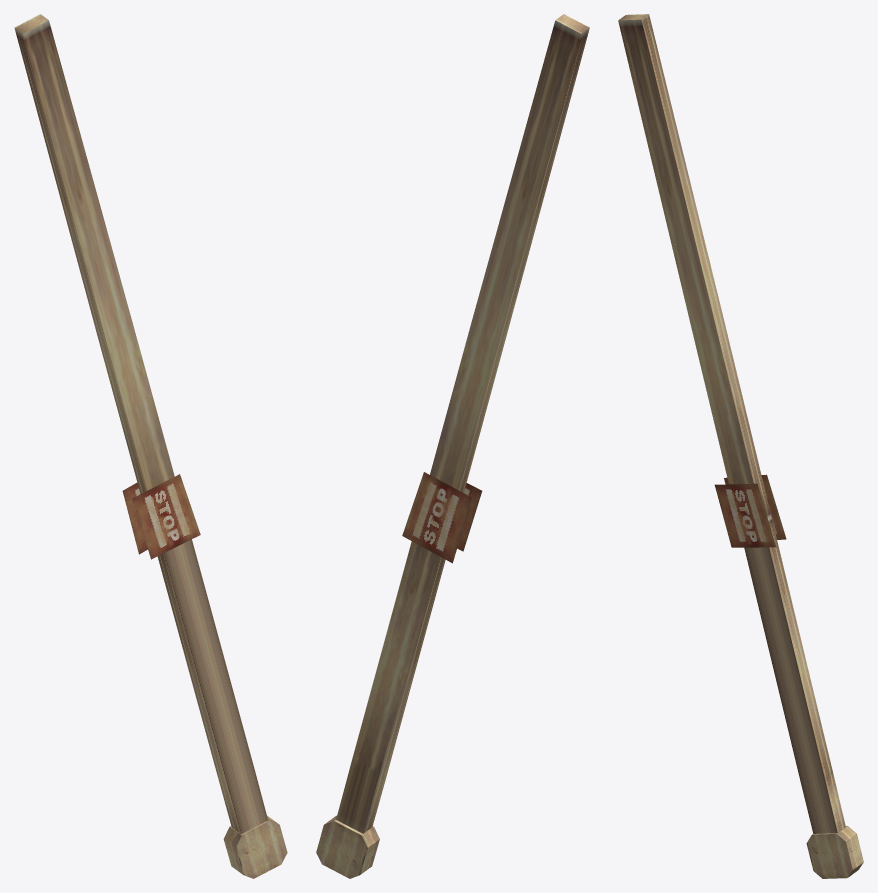
File: C2SMCHECKPNT2H.obj
The picture shows the model from 3 angles, left to right: view 1: azimuth 30°, elevation 25°; view 2: azimuth 150°, elevation 25°; view 3: azimuth 330°, elevation 25°; orthographic projection. The views are drawn at different scales.
Parts seen in each view (by area): view 1: Node 0; view 2: Node 0; view 3: Node 0.
Part boxes in pixels (<box>): Node 0: <box>14,14,287,878</box>; Node 0: <box>316,14,589,878</box>; Node 0: <box>618,14,863,878</box>.
Size of the model in its own units: 7.48 by 24.64 by 0.62.
2 materials, 2 textured.
